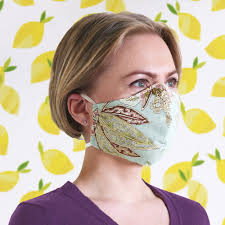cloth_mask: (83, 82, 175, 166)
